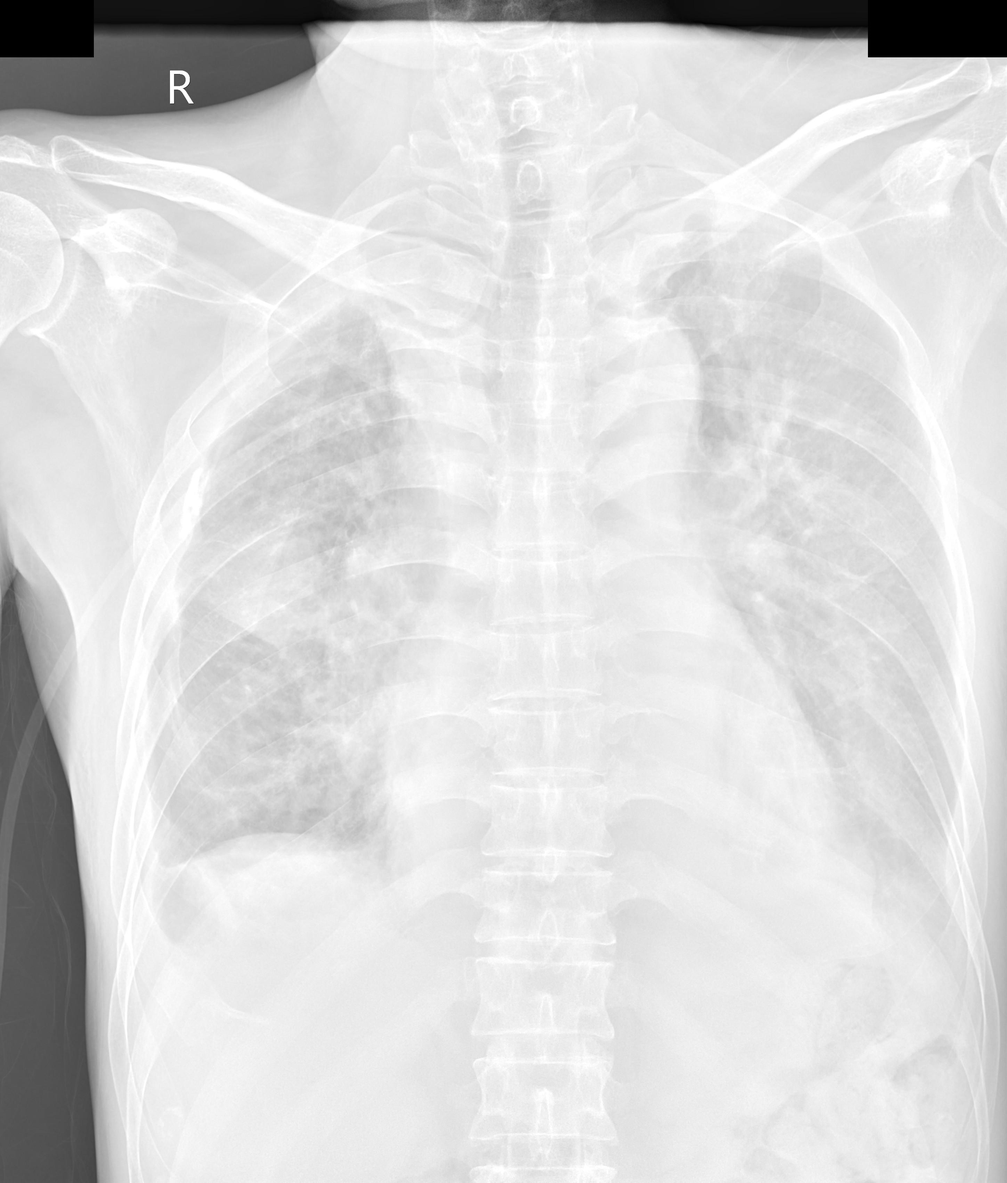Aortic enlargement: (573, 309, 700, 477)
Pleural thickening: (126, 379, 237, 812), (112, 816, 209, 958)
Pulmonary fibrosis: (221, 328, 395, 806), (713, 337, 912, 750)
